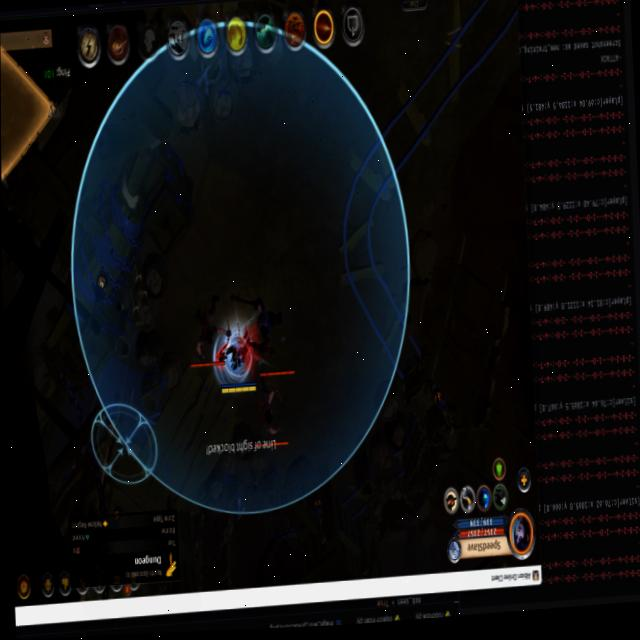ore: (245, 293, 295, 382), (184, 289, 224, 374), (251, 375, 292, 457)
red: (214, 320, 259, 398)
